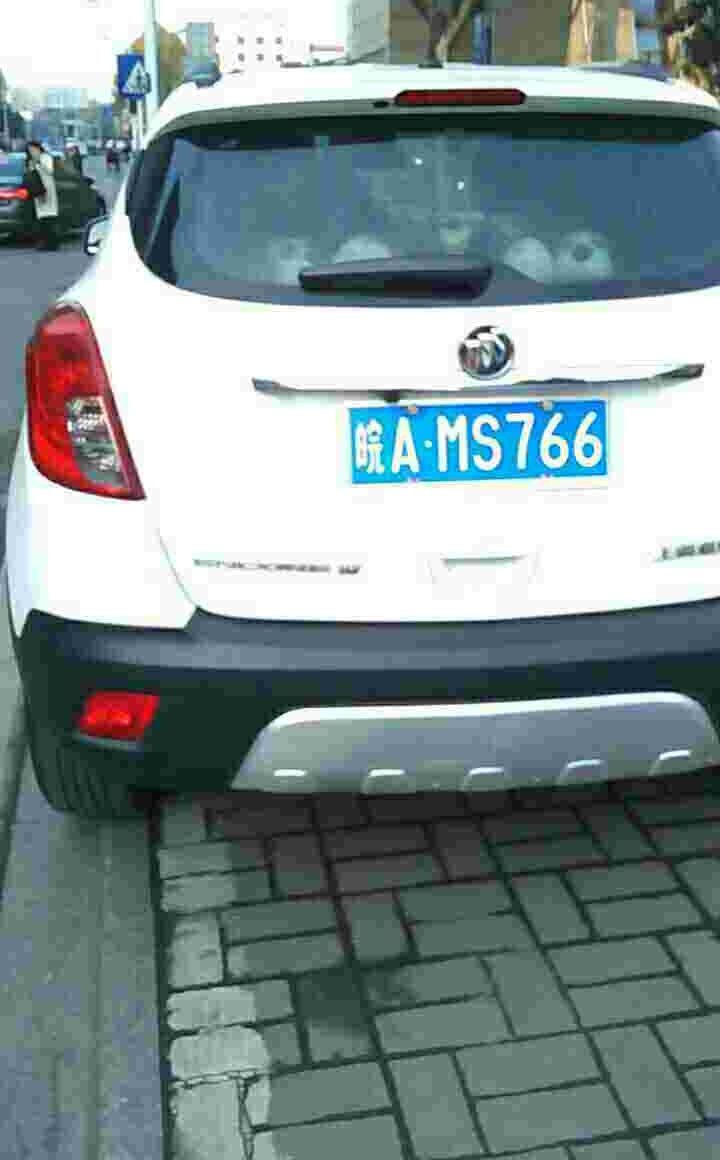license_plate: (348, 403, 610, 482)
